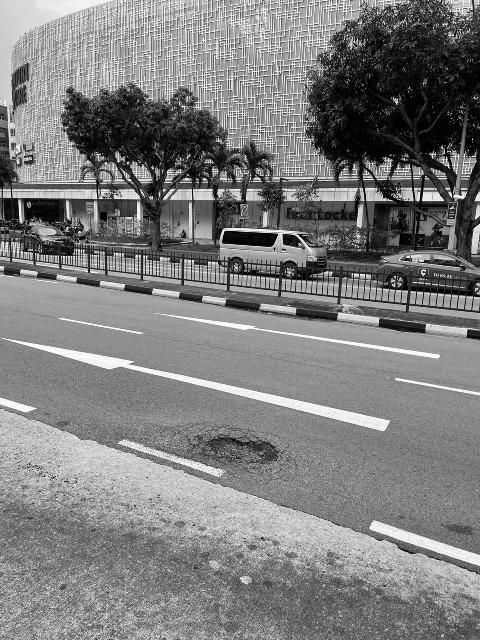Pothole: (204, 435, 280, 469)
